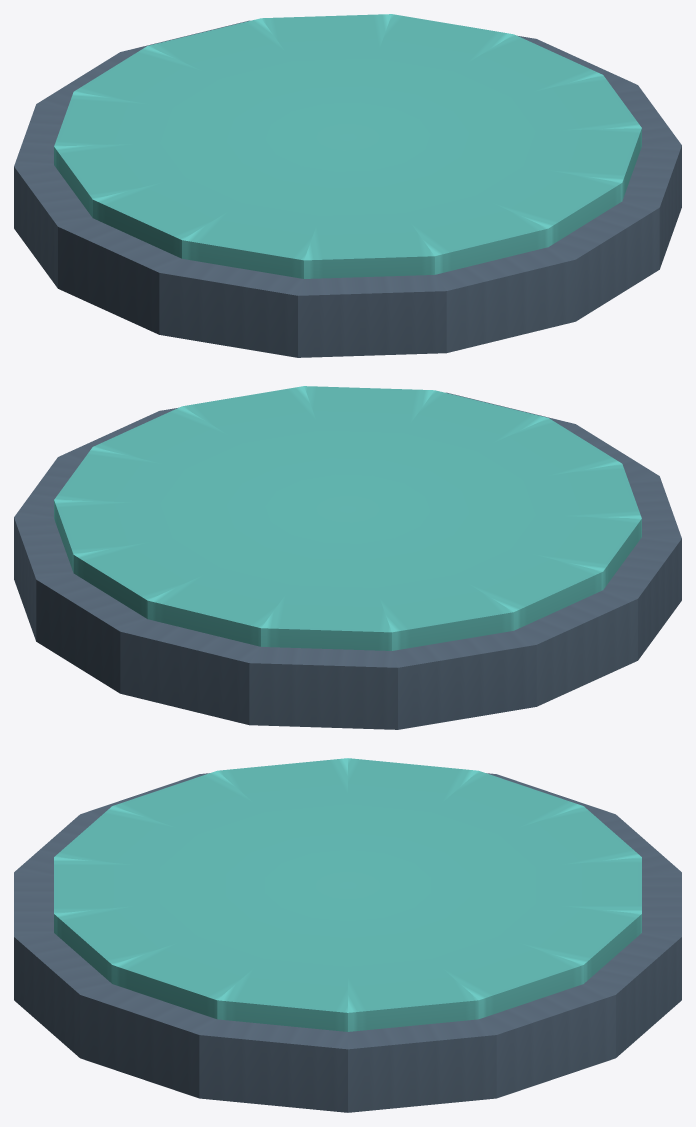
File: moving_platform.glb
The picture shows the model from 3 angles, top to bottom: view 1: azimuth 30°, elevation 25°; view 2: azimuth 150°, elevation 25°; view 3: azimuth 270°, elevation 25°; orthographic projection. The views are drawn at different scales.
Visible parts, largest first — view 1: moving_platform; view 2: moving_platform; view 3: moving_platform.
Part boxes in pixels (bbox=[...]): moving_platform: bbox=[14, 14, 681, 357]; moving_platform: bbox=[14, 386, 681, 729]; moving_platform: bbox=[14, 758, 681, 1112].
Bounding box in the file's own units: 4.4 × 0.585 × 4.29.
Materials: 1 (1 with a texture image).
